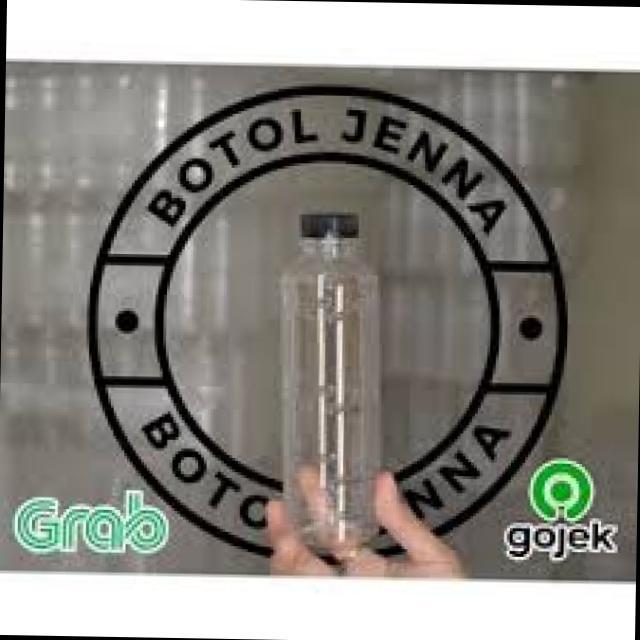good: (248, 205, 428, 570)
